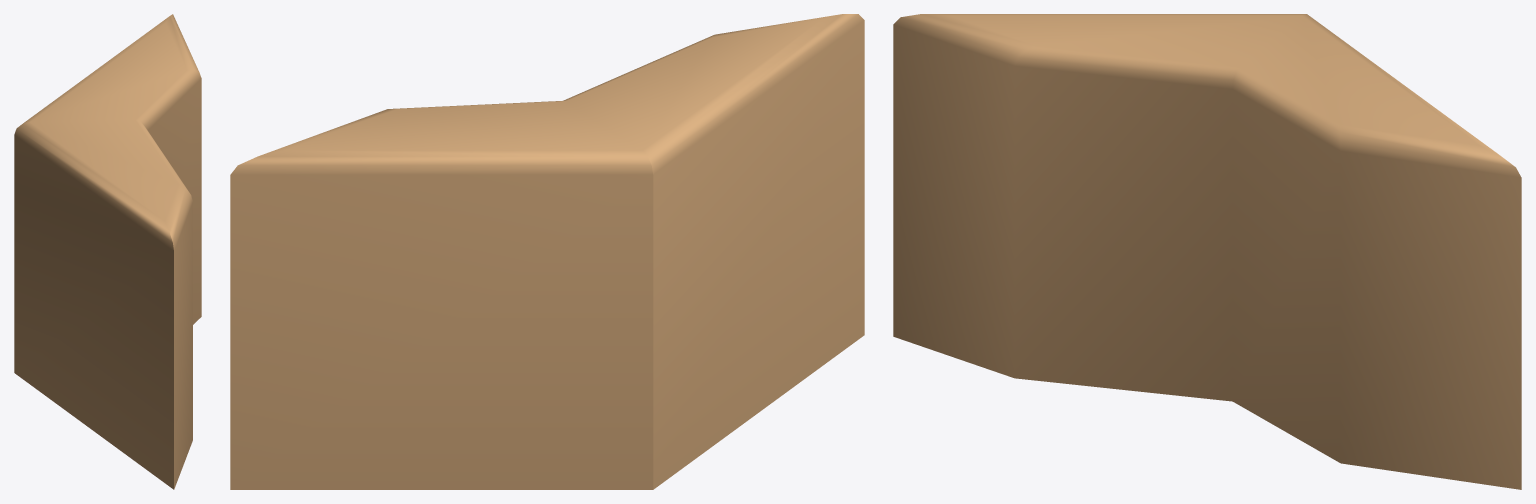
File: hex_sand_waterA_empty.glb
The picture shows the model from 3 angles, left to right: view 1: azimuth 30°, elevation 25°; view 2: azimuth 150°, elevation 25°; view 3: azimuth 270°, elevation 25°; orthographic projection. The views are drawn at different scales.
Visible parts, largest first — view 1: hex_sand_waterA_empty; view 2: hex_sand_waterA_empty; view 3: hex_sand_waterA_empty.
Part boxes in pixels (x1,y1,x2,y2): hex_sand_waterA_empty: (14, 14, 201, 489); hex_sand_waterA_empty: (230, 14, 864, 489); hex_sand_waterA_empty: (893, 14, 1521, 489).
Bounding box in the file's own units: 1 × 1 × 1.73.
